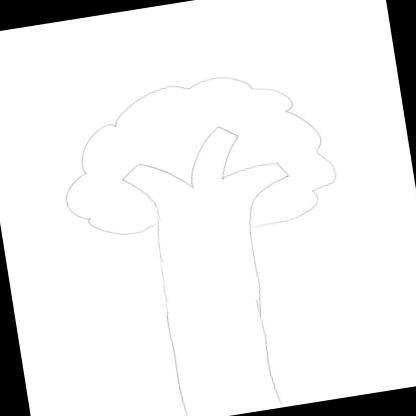branch_cut: (115, 112, 294, 224)
crown_cloud: (47, 56, 347, 258)
trunk_straight: (150, 234, 280, 388)
